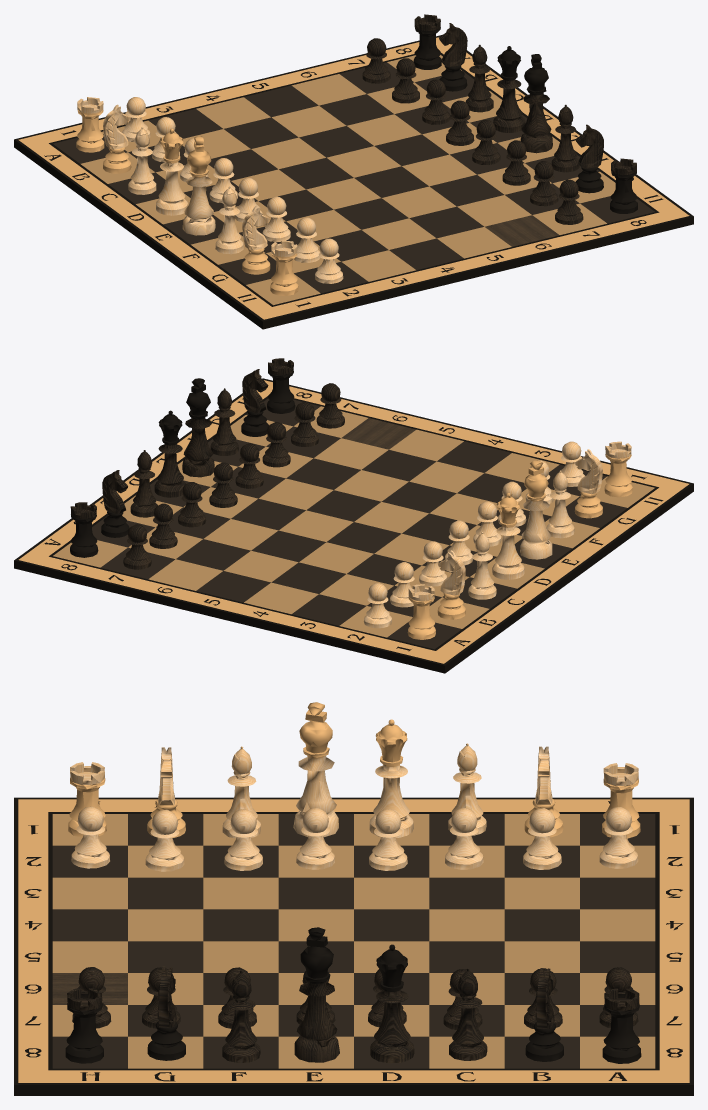
Rendered from botw-chess-001.glb.
3 views of the same model, one above another, from view 1: azimuth 30°, elevation 25°; view 2: azimuth 150°, elevation 25°; view 3: azimuth 270°, elevation 25° (orthographic). The views are drawn at different scales.
Parts seen in each view (by area): view 1: board, whiteKing, blackKing, whiteQueen, blackQueen, blackKnight2, whiteKnight1, whiteKnight2, blackKnight1, whiteRook2, whiteRook1, blackRook1 (+20 smaller); view 2: board, whiteKing, blackKing, whiteQueen, blackQueen, whiteKnight1, whiteKnight2, blackKnight1, blackKnight2, whiteRook1, whiteRook2, blackRook2 (+19 smaller); view 3: board, blackKing, whiteKing, blackQueen, whiteQueen, blackRook2, blackRook1, blackBishop2, blackBishop1, blackKnight2, blackKnight1, whitePawn6 (+19 smaller).
Part boxes in pixels (box(x1,y1,x2,y2)): board: box(14, 35, 693, 329); whiteKing: box(182, 136, 215, 235); blackKing: box(520, 54, 552, 153); whiteQueen: box(156, 128, 187, 215); blackQueen: box(493, 46, 525, 132); blackKnight2: box(575, 124, 603, 193); whiteKnight1: box(103, 104, 131, 173); whiteKnight2: box(242, 205, 270, 274); blackKnight1: box(439, 23, 467, 91); whiteRook2: box(270, 240, 298, 295); whiteRook1: box(76, 97, 104, 152); blackRook1: box(413, 14, 441, 69); board: box(14, 378, 693, 673); whiteKing: box(520, 460, 552, 559); blackKing: box(182, 378, 214, 477); whiteQueen: box(492, 493, 524, 579); blackQueen: box(154, 410, 185, 497); whiteKnight1: box(437, 550, 465, 619); whiteKnight2: box(574, 449, 602, 518); blackKnight1: box(101, 470, 129, 537); blackKnight2: box(241, 369, 268, 436); whiteRook1: box(407, 584, 435, 639); whiteRook2: box(604, 441, 632, 497); blackRook2: box(267, 358, 295, 413); board: box(14, 797, 693, 1095); blackKing: box(294, 927, 339, 1062); whiteKing: box(293, 702, 338, 836); blackQueen: box(370, 944, 414, 1063); whiteQueen: box(369, 719, 413, 837); blackRook2: box(65, 988, 103, 1063); blackRook1: box(602, 988, 641, 1063); blackBishop2: box(222, 970, 260, 1062); blackBishop1: box(449, 968, 487, 1060); blackKnight2: box(147, 966, 185, 1060); blackKnight1: box(525, 968, 563, 1061); whitePawn6: box(224, 809, 262, 870).
Size of the model in its own units: 17.77 by 3.91 by 17.77.
Materials: 4 (4 with a texture image).
